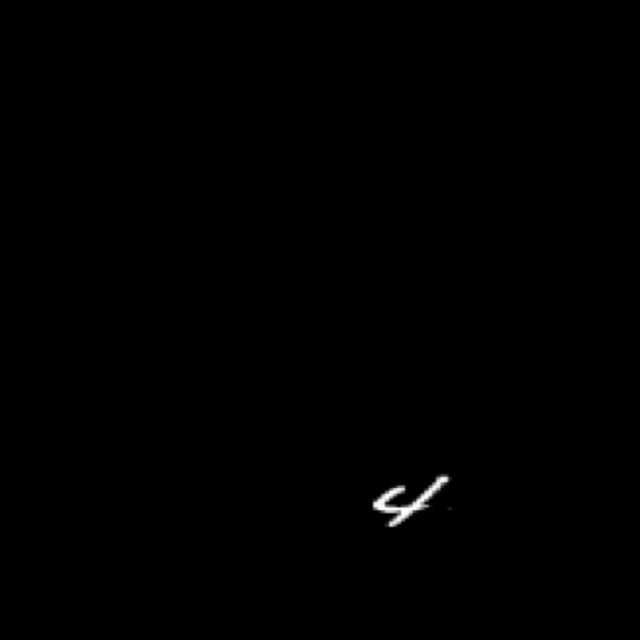four -4-: (355, 462, 460, 547)
